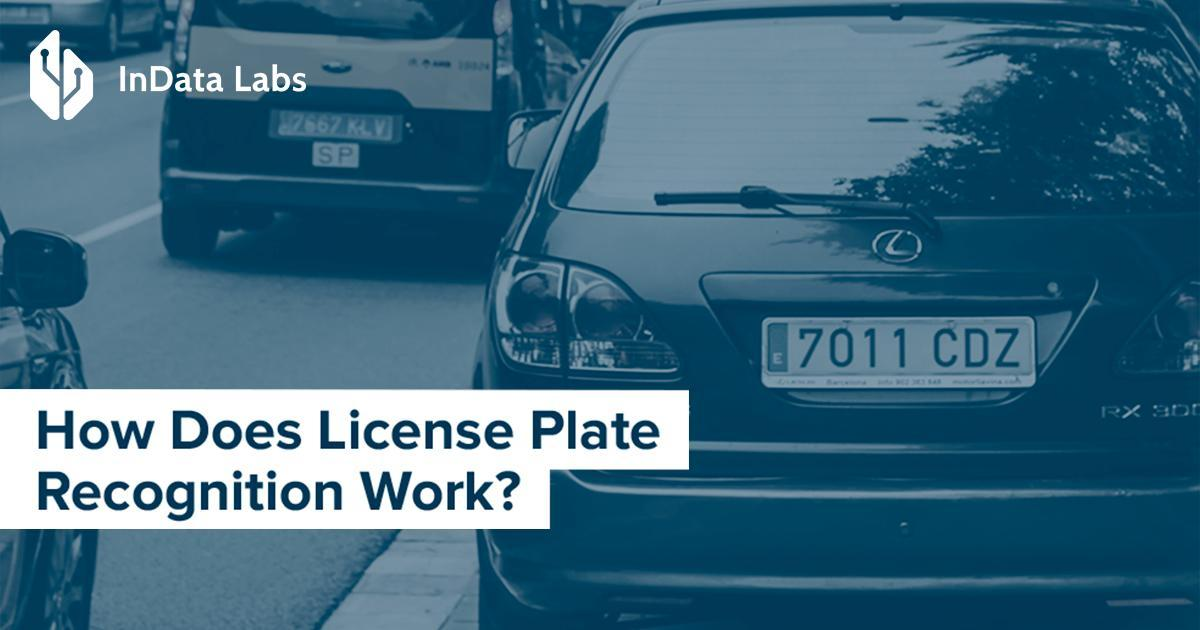bienso: (764, 313, 1036, 388)
